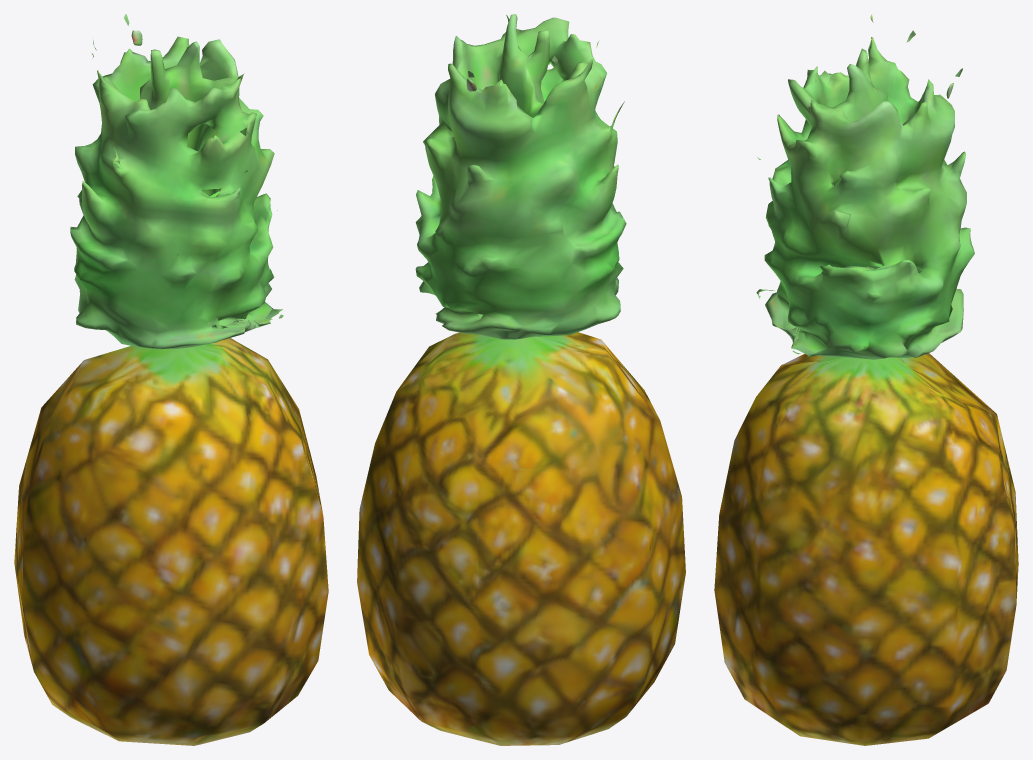
File: suica-pineapple.glb
3 views of the same model, side by side, from view 1: azimuth 30°, elevation 25°; view 2: azimuth 150°, elevation 25°; view 3: azimuth 270°, elevation 25° (orthographic). The views are drawn at different scales.
Visible parts, largest first — view 1: Mesh; view 2: Mesh; view 3: Mesh.
Part boxes in pixels (x1,y1,x2,y2): Mesh: [14, 14, 328, 745]; Mesh: [357, 14, 685, 745]; Mesh: [714, 14, 1018, 745].
Size of the model in its own units: 36.18 by 82.61 by 34.92.
1 material, 1 textured.
